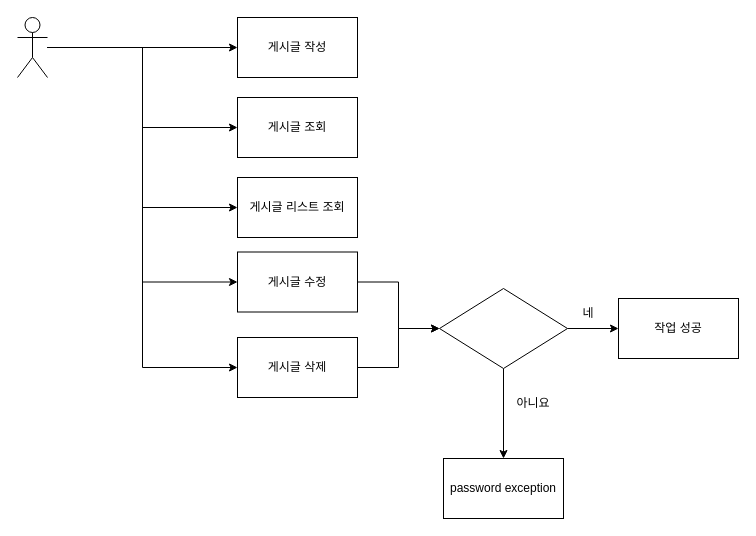
Image size: 756x536. Some labels were removed from this diagram. The shapes that lost their labels are listed below. From the top down, each one's centre as x and y in pixels, then its label:
[32,47]: Actor
[503,328]: 비밀번호가 일치하나요?
